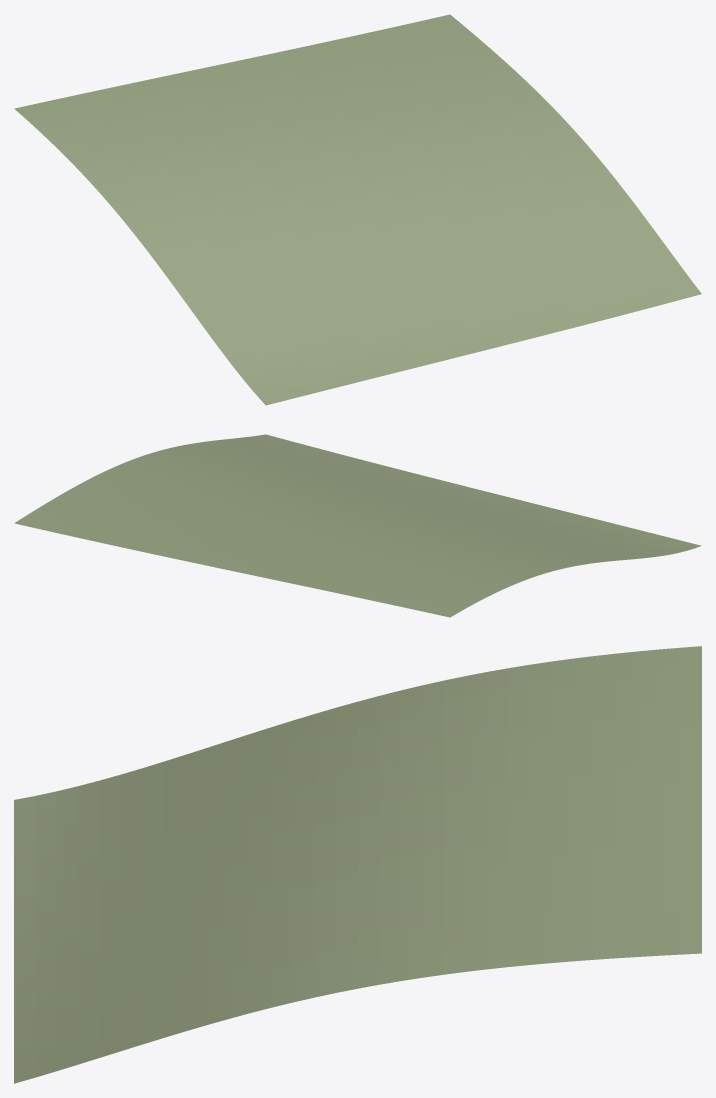
File: expanse-1-4.glb
3 renders of one model, top to bottom at view 1: azimuth 30°, elevation 25°; view 2: azimuth 150°, elevation 25°; view 3: azimuth 270°, elevation 25°, orthographic. The views are drawn at different scales.
Visible parts, largest first — view 1: expanse-1-4; view 2: expanse-1-4; view 3: expanse-1-4.
Boxes of the visible parts, bbox=[...] form: expanse-1-4: bbox=[14, 14, 701, 405]; expanse-1-4: bbox=[14, 434, 701, 617]; expanse-1-4: bbox=[14, 646, 701, 1083].
Size of the model in its own units: 256 by 63.15 by 256.
